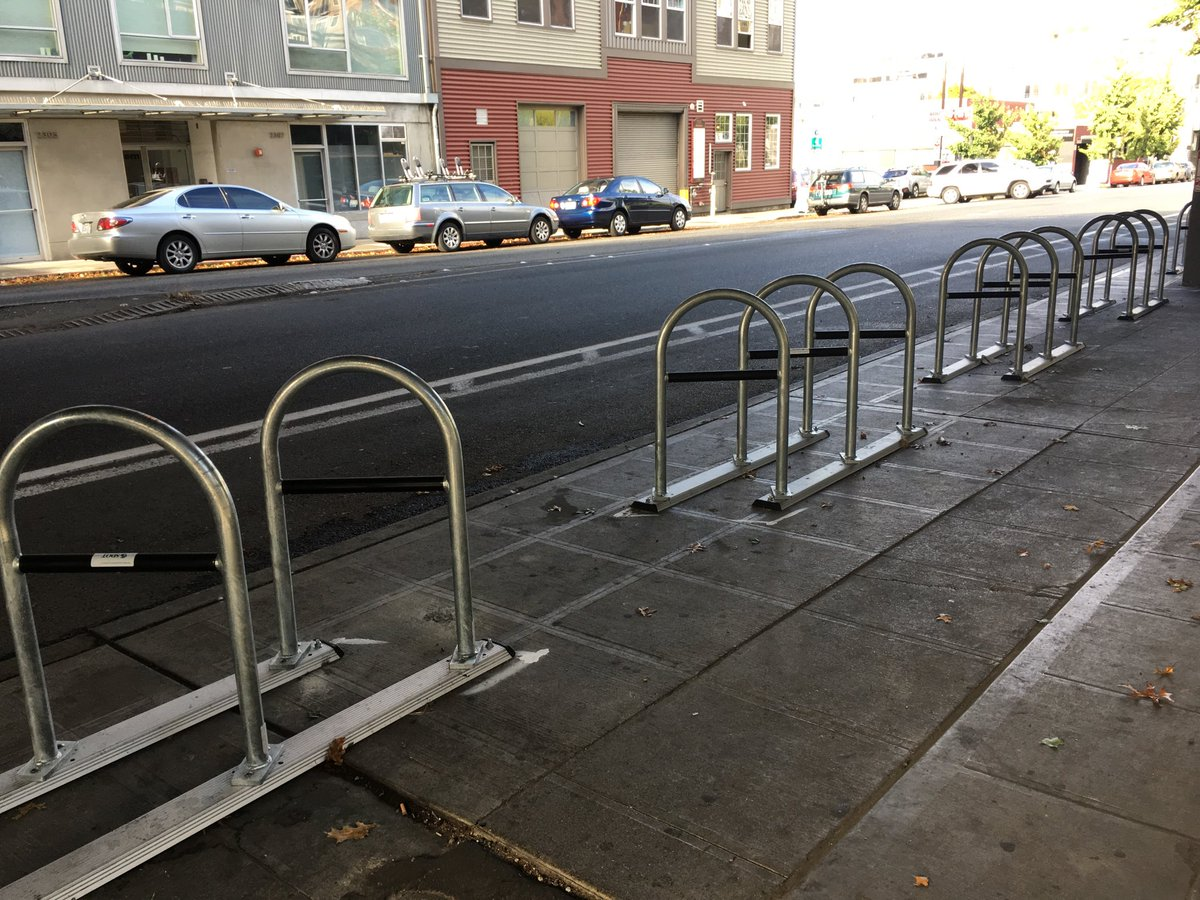Car: (69, 172, 369, 267), (368, 179, 559, 253), (544, 171, 701, 234), (921, 159, 1056, 202), (810, 167, 903, 212)
